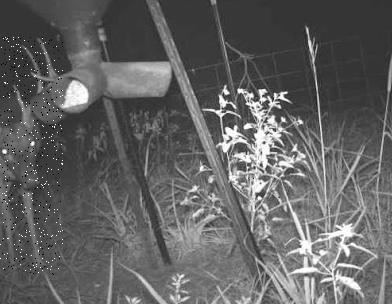Deer: (0, 37, 63, 275)
